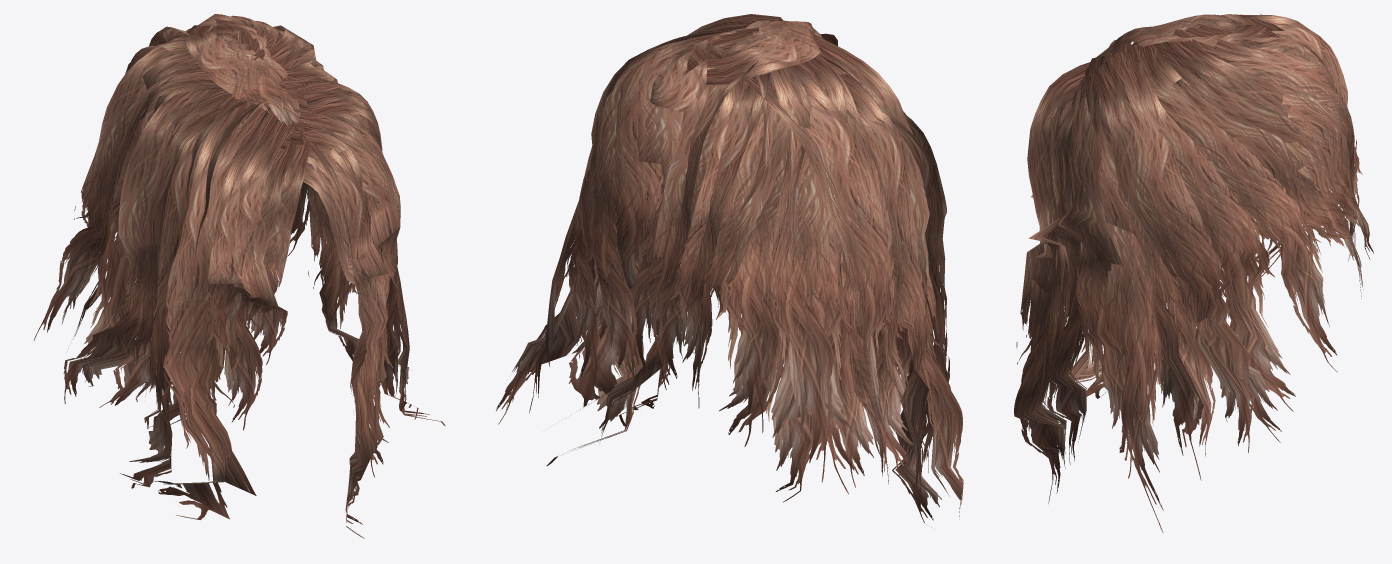
The model's file is mh_elvs_inverted_curly_bob.glb.
3 views of the same model, side by side, from view 1: azimuth 30°, elevation 25°; view 2: azimuth 150°, elevation 25°; view 3: azimuth 270°, elevation 25° (orthographic). The views are drawn at different scales.
Parts seen in each view (by area): view 1: mh_elvs_inverted_curly_bob; view 2: mh_elvs_inverted_curly_bob; view 3: mh_elvs_inverted_curly_bob.
Part boxes in pixels (box(x1,y1,x2,y2)): mh_elvs_inverted_curly_bob: box(34, 14, 445, 538); mh_elvs_inverted_curly_bob: box(496, 14, 963, 524); mh_elvs_inverted_curly_bob: box(1014, 14, 1373, 532).
Size of the model in its own units: 0.3732 by 0.4259 by 0.312.
Materials: 1 (1 with a texture image).
